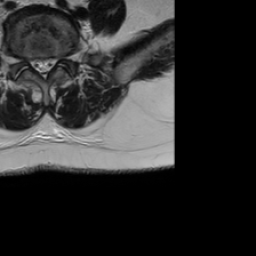CCS_normal: (38, 51, 48, 82)
LFS_severe_stenosis: (57, 50, 65, 70)
LLS_normal: (47, 52, 56, 71)
RFS_severe_stenosis: (22, 51, 30, 71)
RLS_stenosis: (29, 52, 38, 73)
